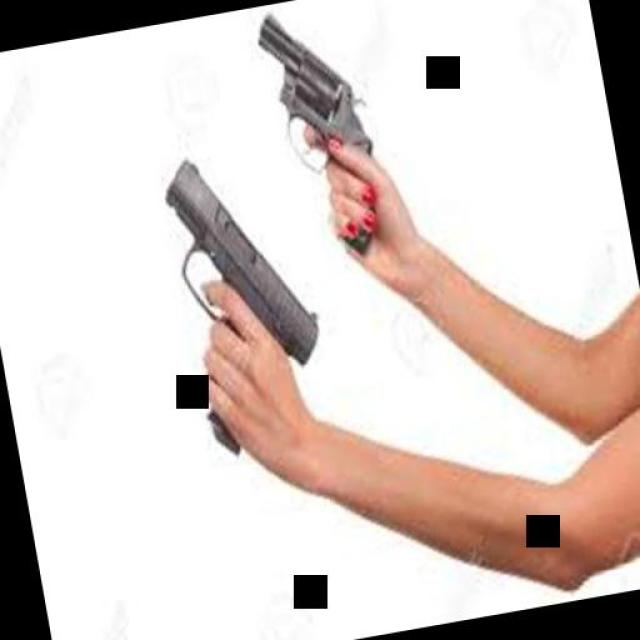gun: (146, 142, 339, 462), (248, 0, 392, 258)
